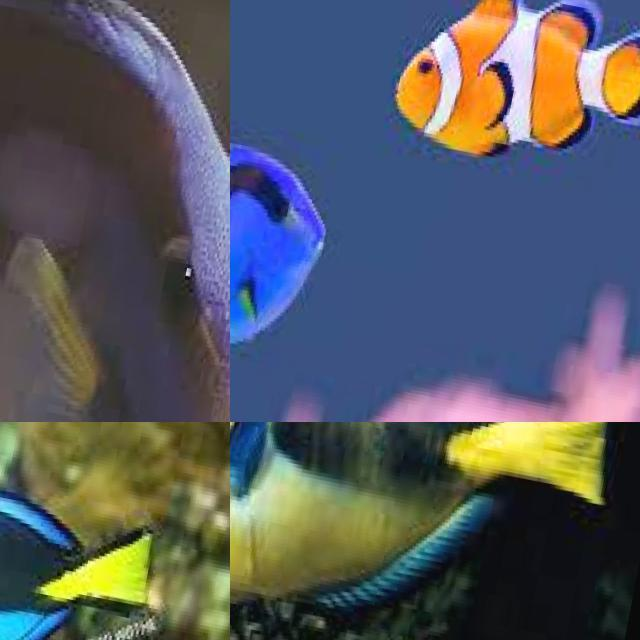BlueTang: (0, 0, 230, 422), (230, 422, 605, 610), (0, 503, 159, 640), (230, 143, 328, 342)
ClownFish: (396, 0, 640, 159)
